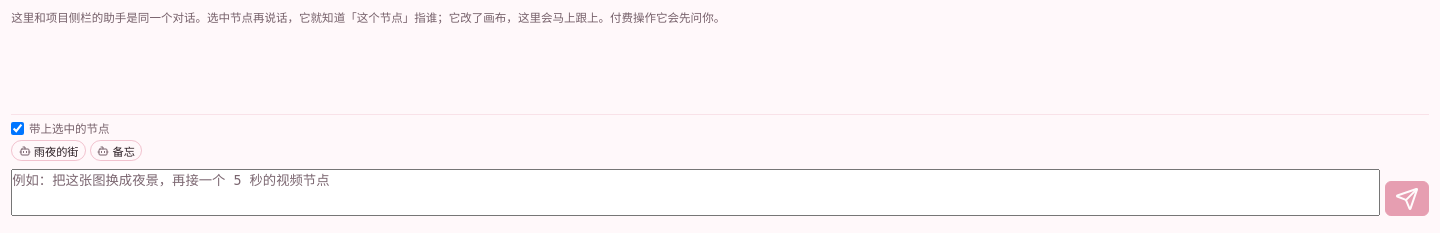
the assistant inside the canvas › saves the canvas, then sends the message with the board and the selected nodes
The width and height of the screenshot is (1440, 233).
Check: the list items read "雨夜的街", "备忘", in this order, box [11, 140, 86, 161]; [90, 140, 142, 161]
Type "把这两个连起来" into the text box named "对助手说" at (695, 193), box [11, 169, 1380, 216]
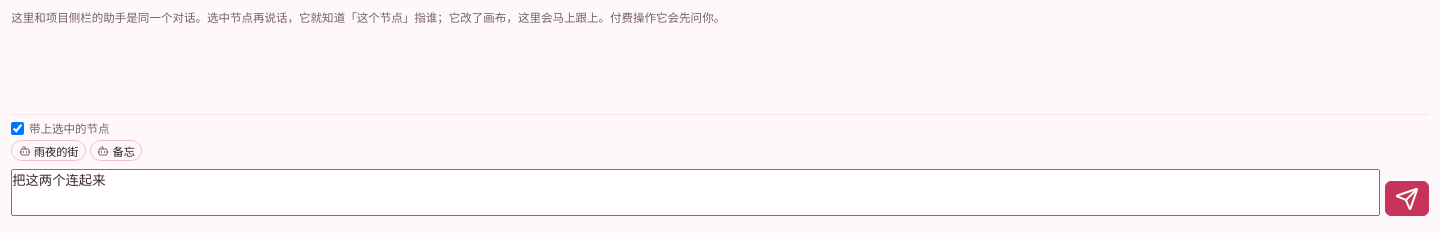
Click the button named "发给助手" at (1407, 199), box [1385, 181, 1429, 216]
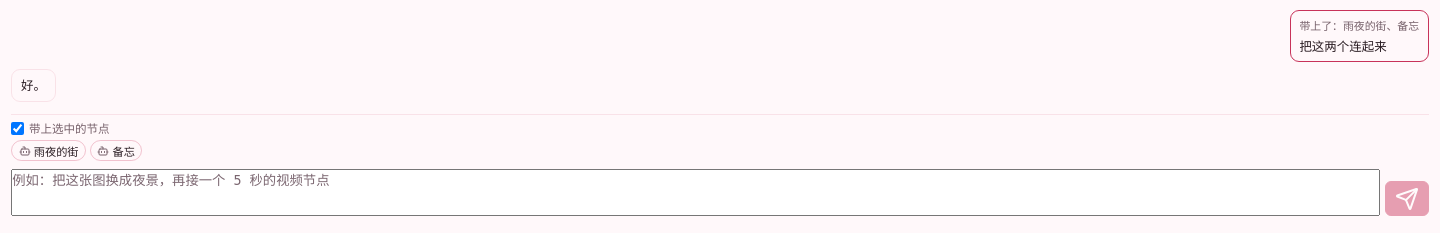
Check: the text "好。" is shown, box [21, 76, 46, 94]
Check: the text "带上了：雨夜的街、备忘" is shown, box [1299, 17, 1419, 33]
Check: the text box named "对助手说" is empty, box [11, 169, 1380, 216]
